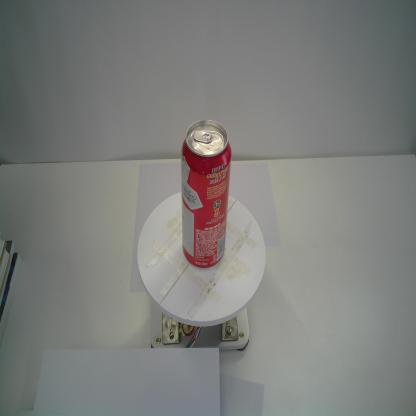Alcohol: (180, 119, 233, 270)
